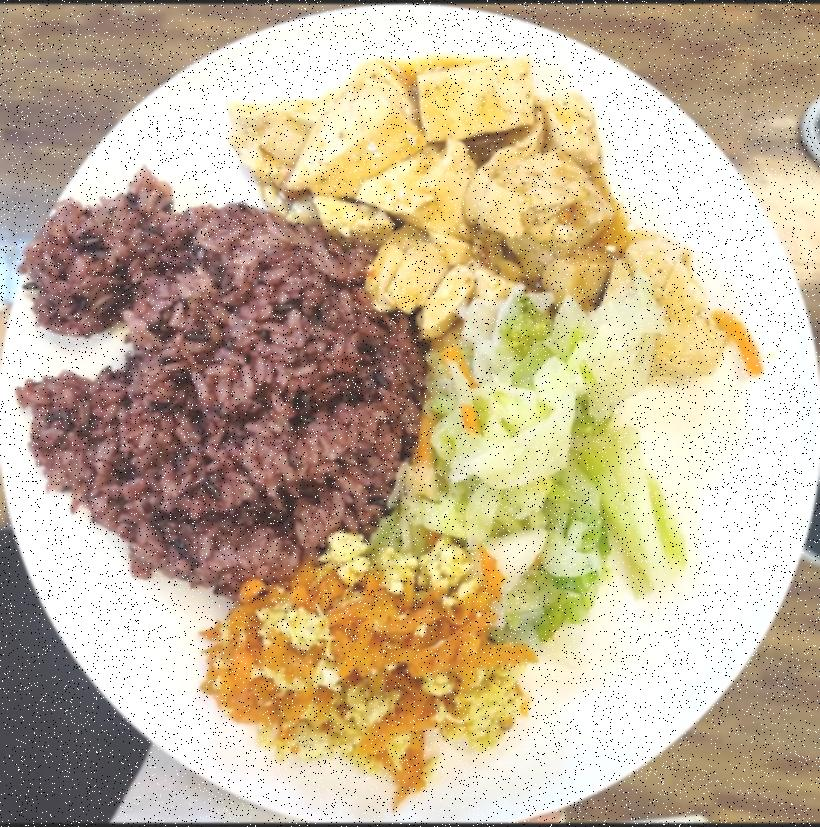plate: (5, 14, 804, 817)
purple rice: (19, 184, 427, 601)
side dish: (237, 53, 622, 329), (379, 288, 622, 619), (205, 539, 507, 789)
